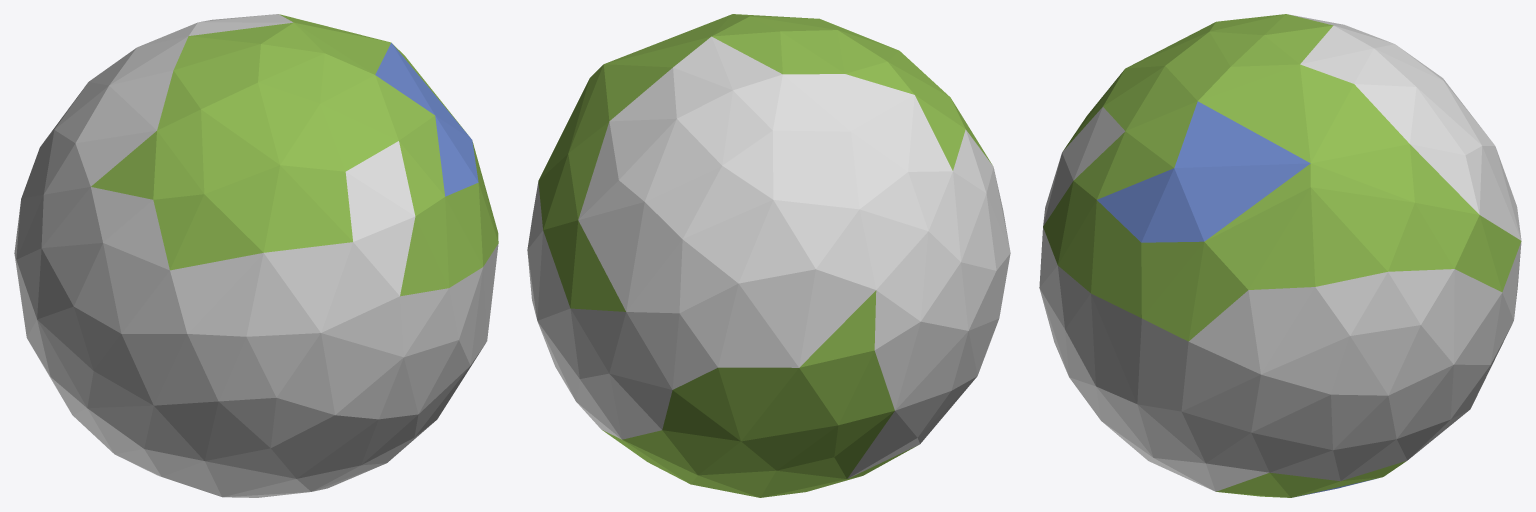
The model's file is alderaan_simple.dae.
The picture shows the model from 3 angles, left to right: view 1: azimuth 30°, elevation 25°; view 2: azimuth 150°, elevation 25°; view 3: azimuth 270°, elevation 25°; orthographic projection.
Parts seen in each view (by area): view 1: Icosphere; view 2: Icosphere; view 3: Icosphere.
Part boxes in pixels (left/top/right/bottom): Icosphere: left=14, top=14, right=498, bottom=497; Icosphere: left=527, top=14, right=1010, bottom=497; Icosphere: left=1039, top=14, right=1521, bottom=497.
Size of the model in its own units: 6.04 by 5.99 by 6.03.
